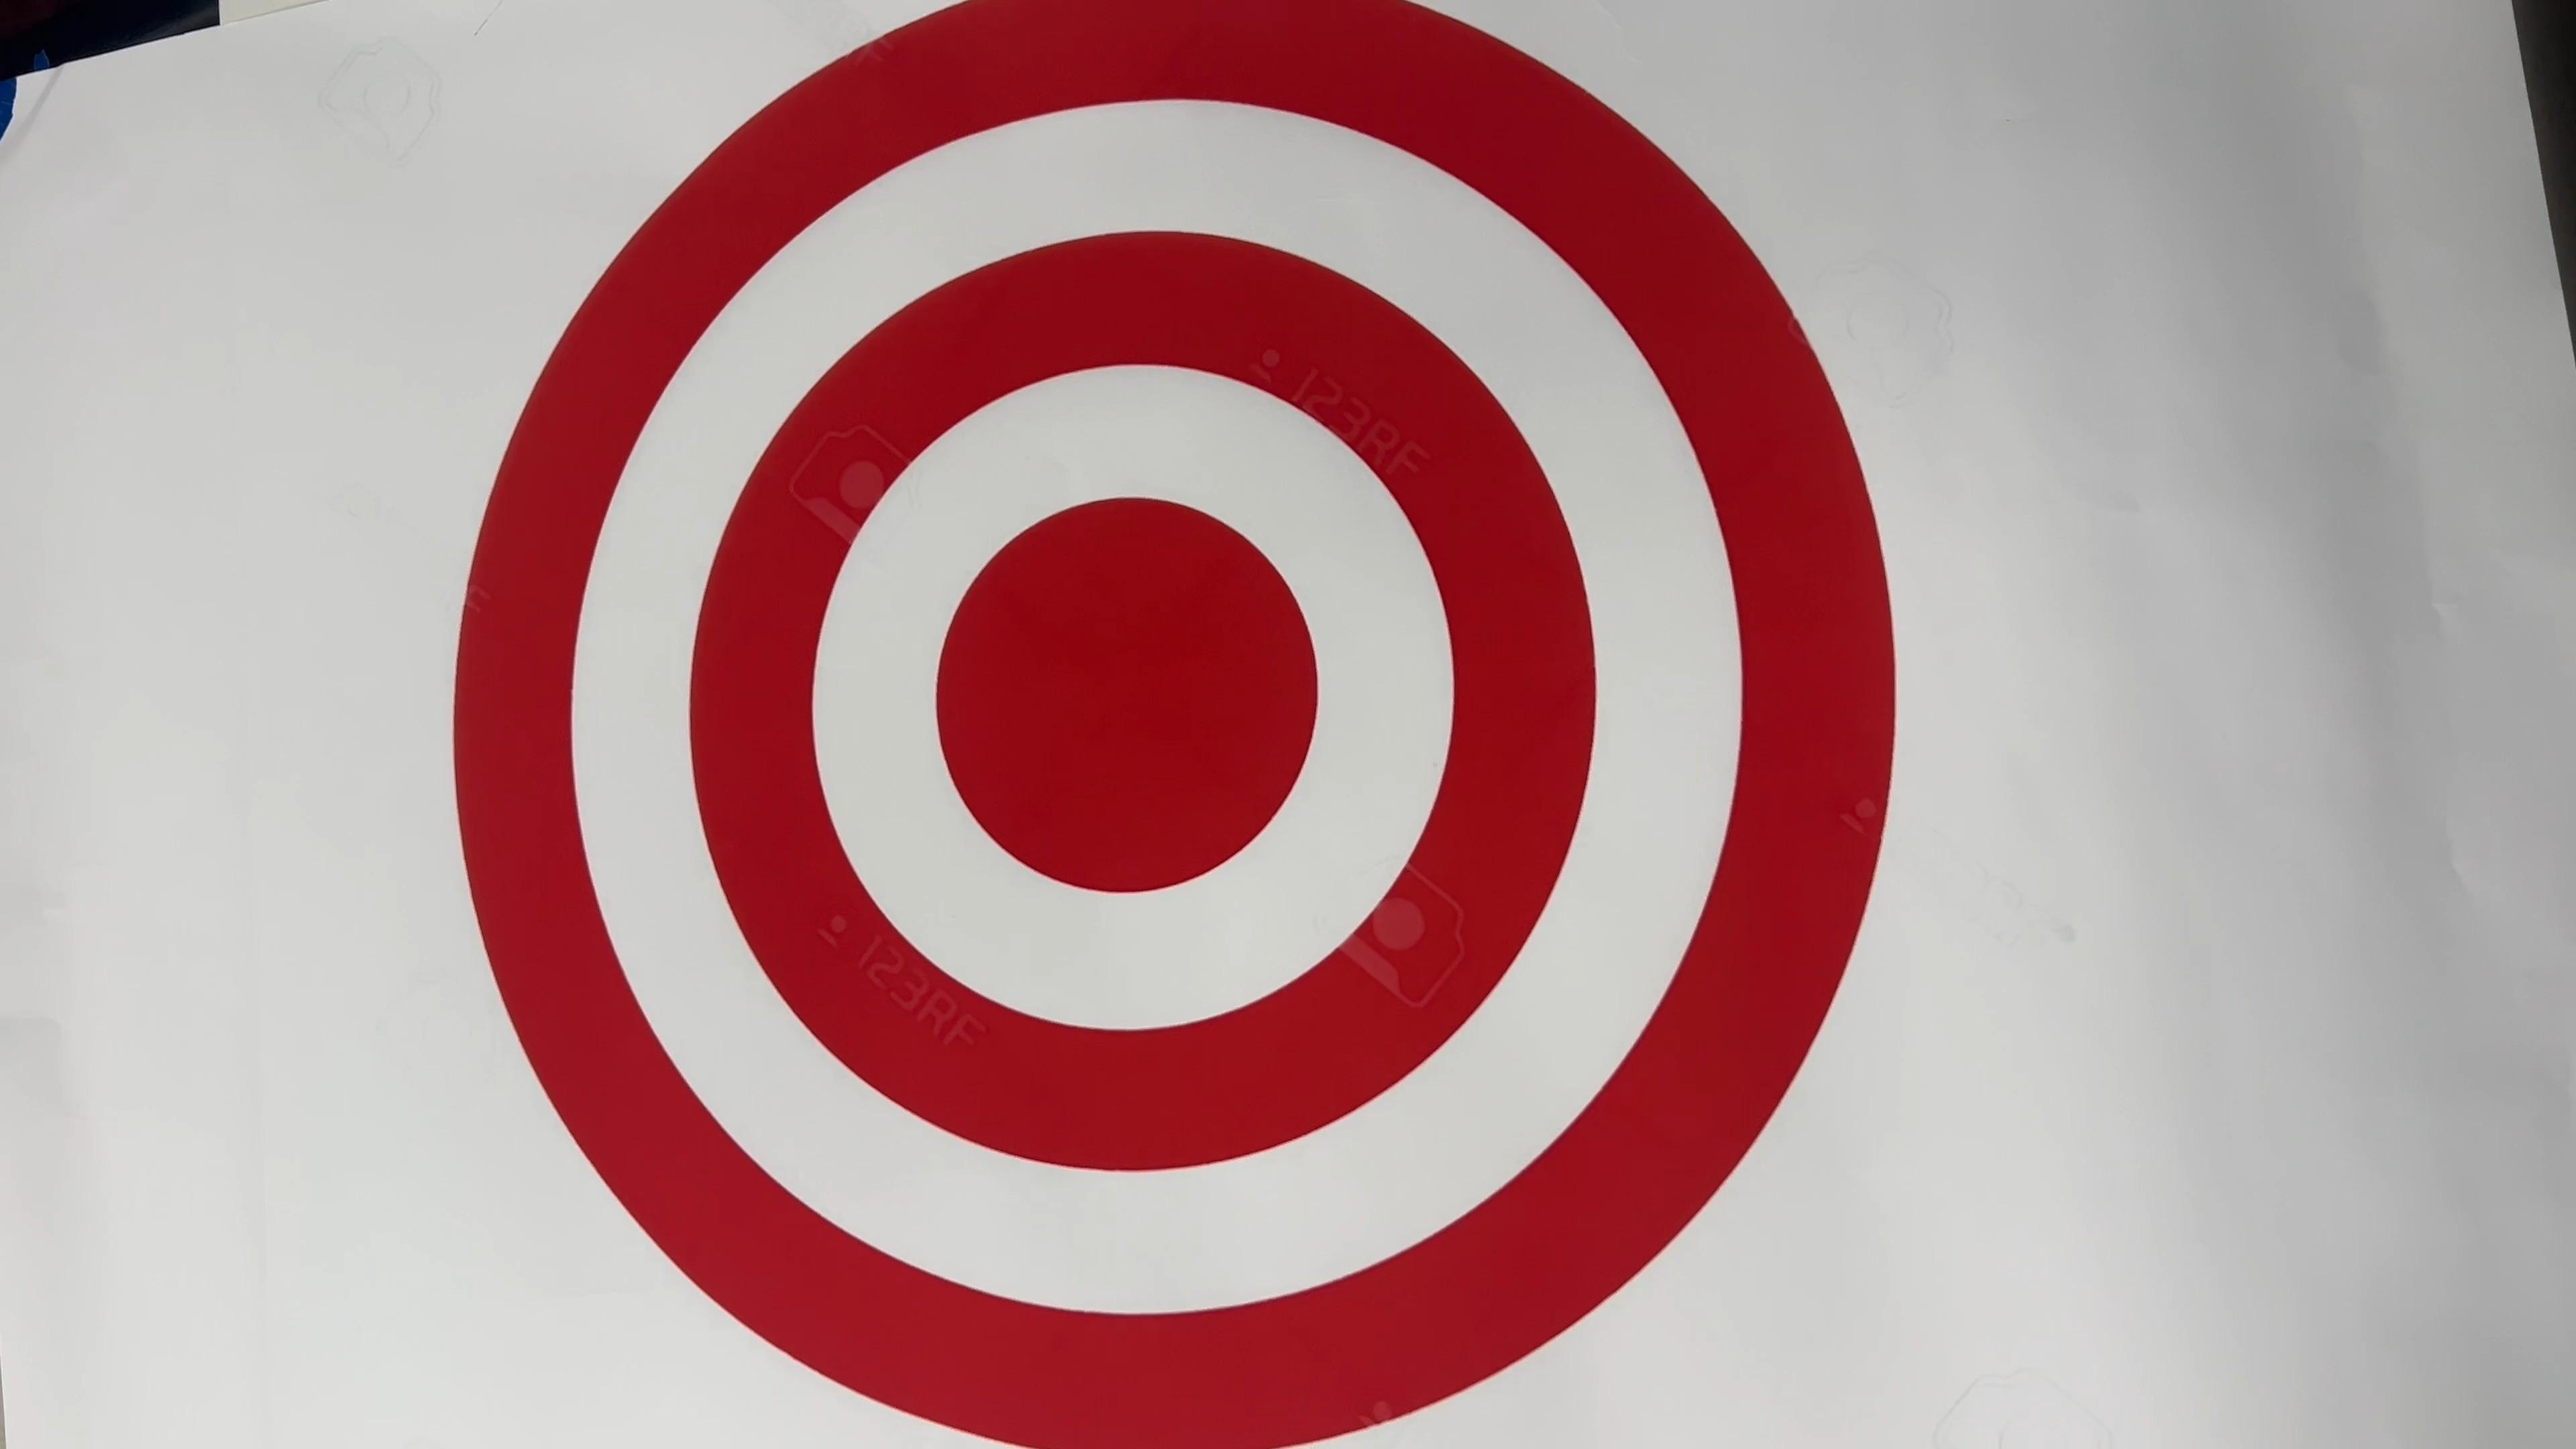target_red: (370, 0, 1902, 1449)
